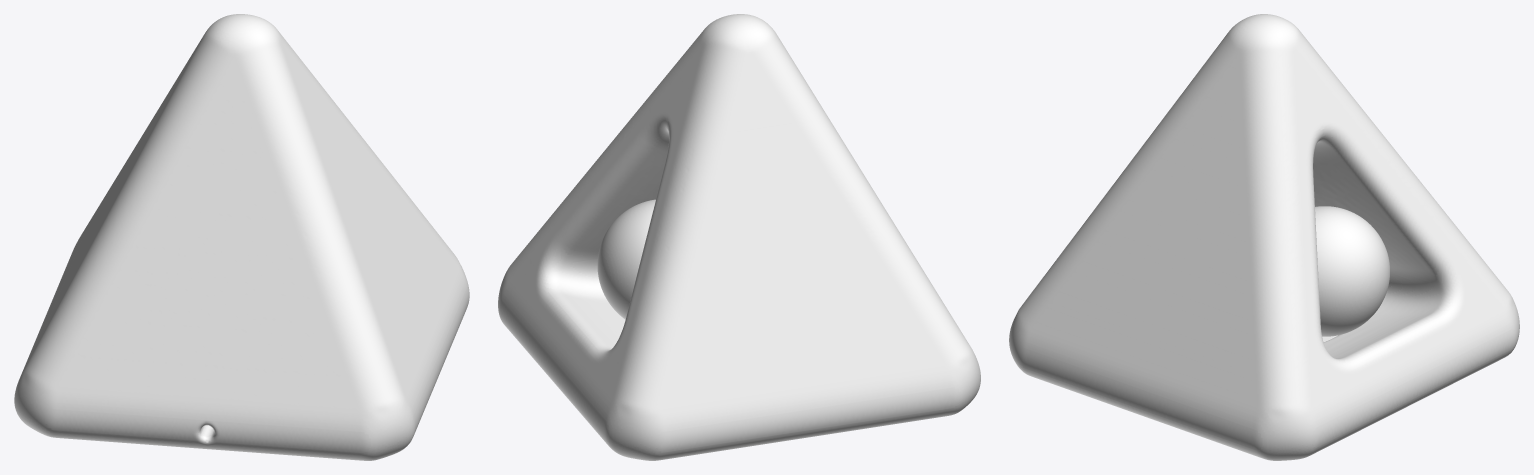
The model's file is new-lamp.gltf.
The picture shows the model from 3 angles, left to right: view 1: azimuth 30°, elevation 25°; view 2: azimuth 150°, elevation 25°; view 3: azimuth 270°, elevation 25°; orthographic projection. The views are drawn at different scales.
Parts seen in each view (by area): view 1: Gravity; view 2: Gravity; view 3: Gravity.
Part boxes in pixels (box(x1,y1,x2,y2)): Gravity: box(14, 14, 469, 460); Gravity: box(498, 14, 980, 460); Gravity: box(1009, 14, 1519, 460).
Bounding box in the file's own units: 235 × 175 × 235.
Materials: 1 (1 with a texture image).
